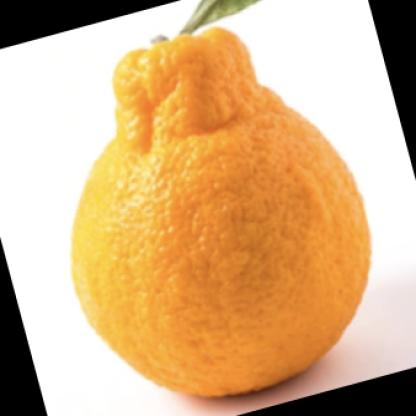fresh: (75, 27, 370, 395)
